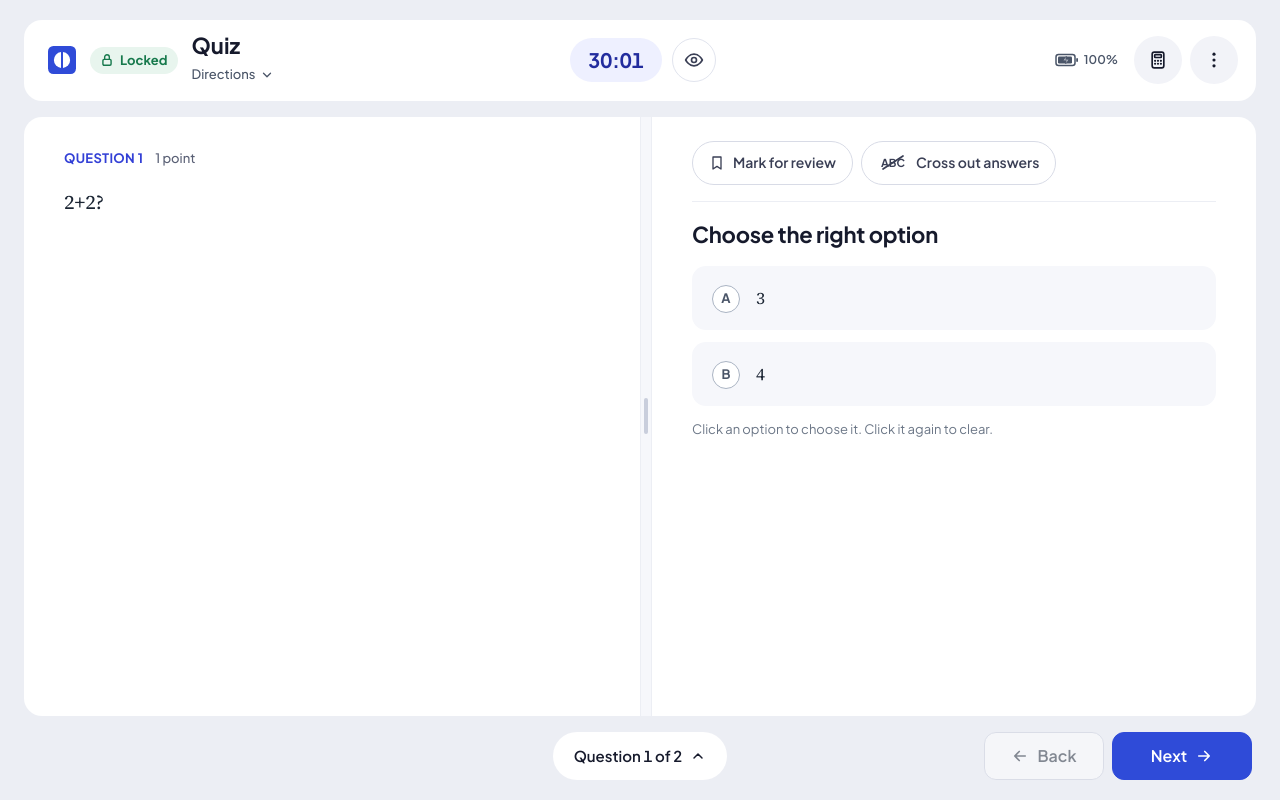
Test case: exam page: DKU OJ changes tools while tabs are open › a website that is no longer allowed loses its tab and frame; the others stay
Later steps or results of the test are not shown.
Check: the heading "2+2?" is shown, box [64,188,104,216]
Click the button named "More". click: (1214, 60)
box: [1190,36,1238,84]
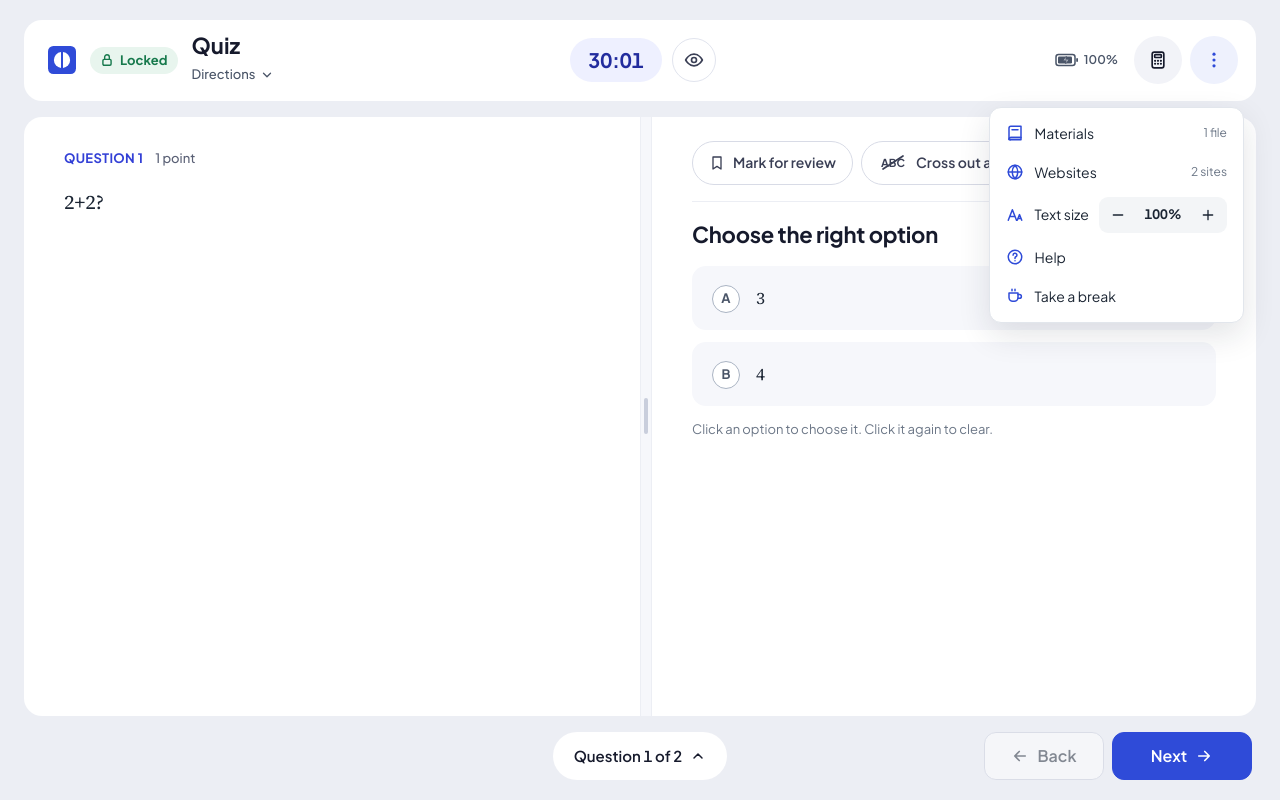
Click the menu item "Websites 2 sites". click: (1117, 172)
box: [996,152,1237,192]
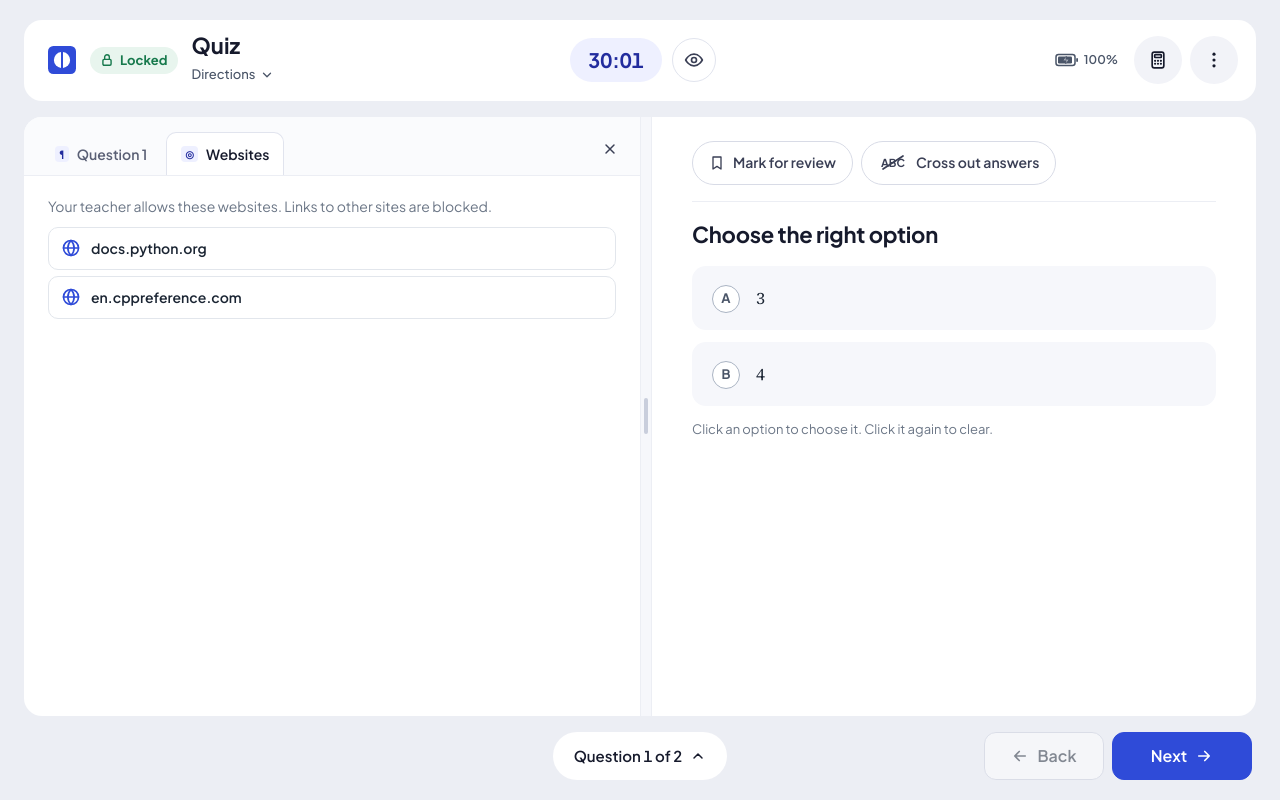
Click the button "docs.python.org". click: (149, 248)
box: [48,226,616,270]
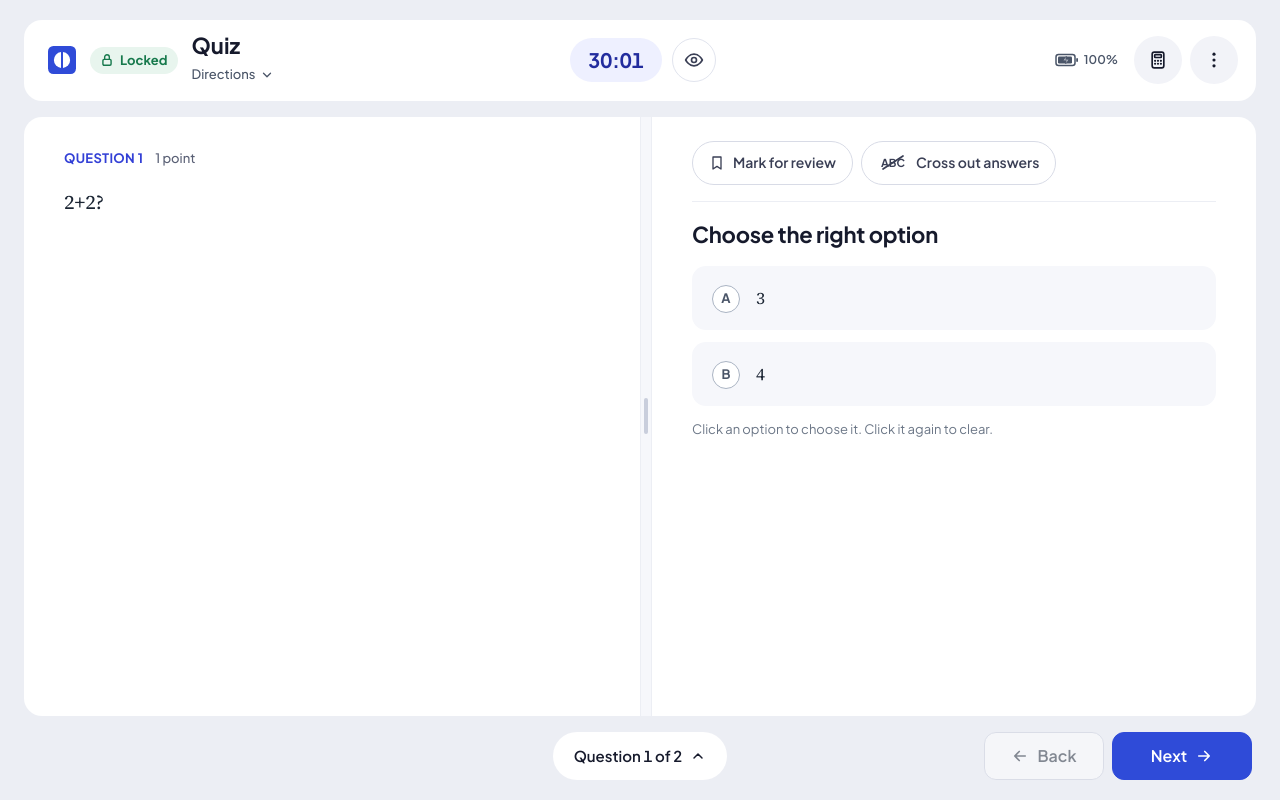
Check: the button "docs.python.org" is gone
